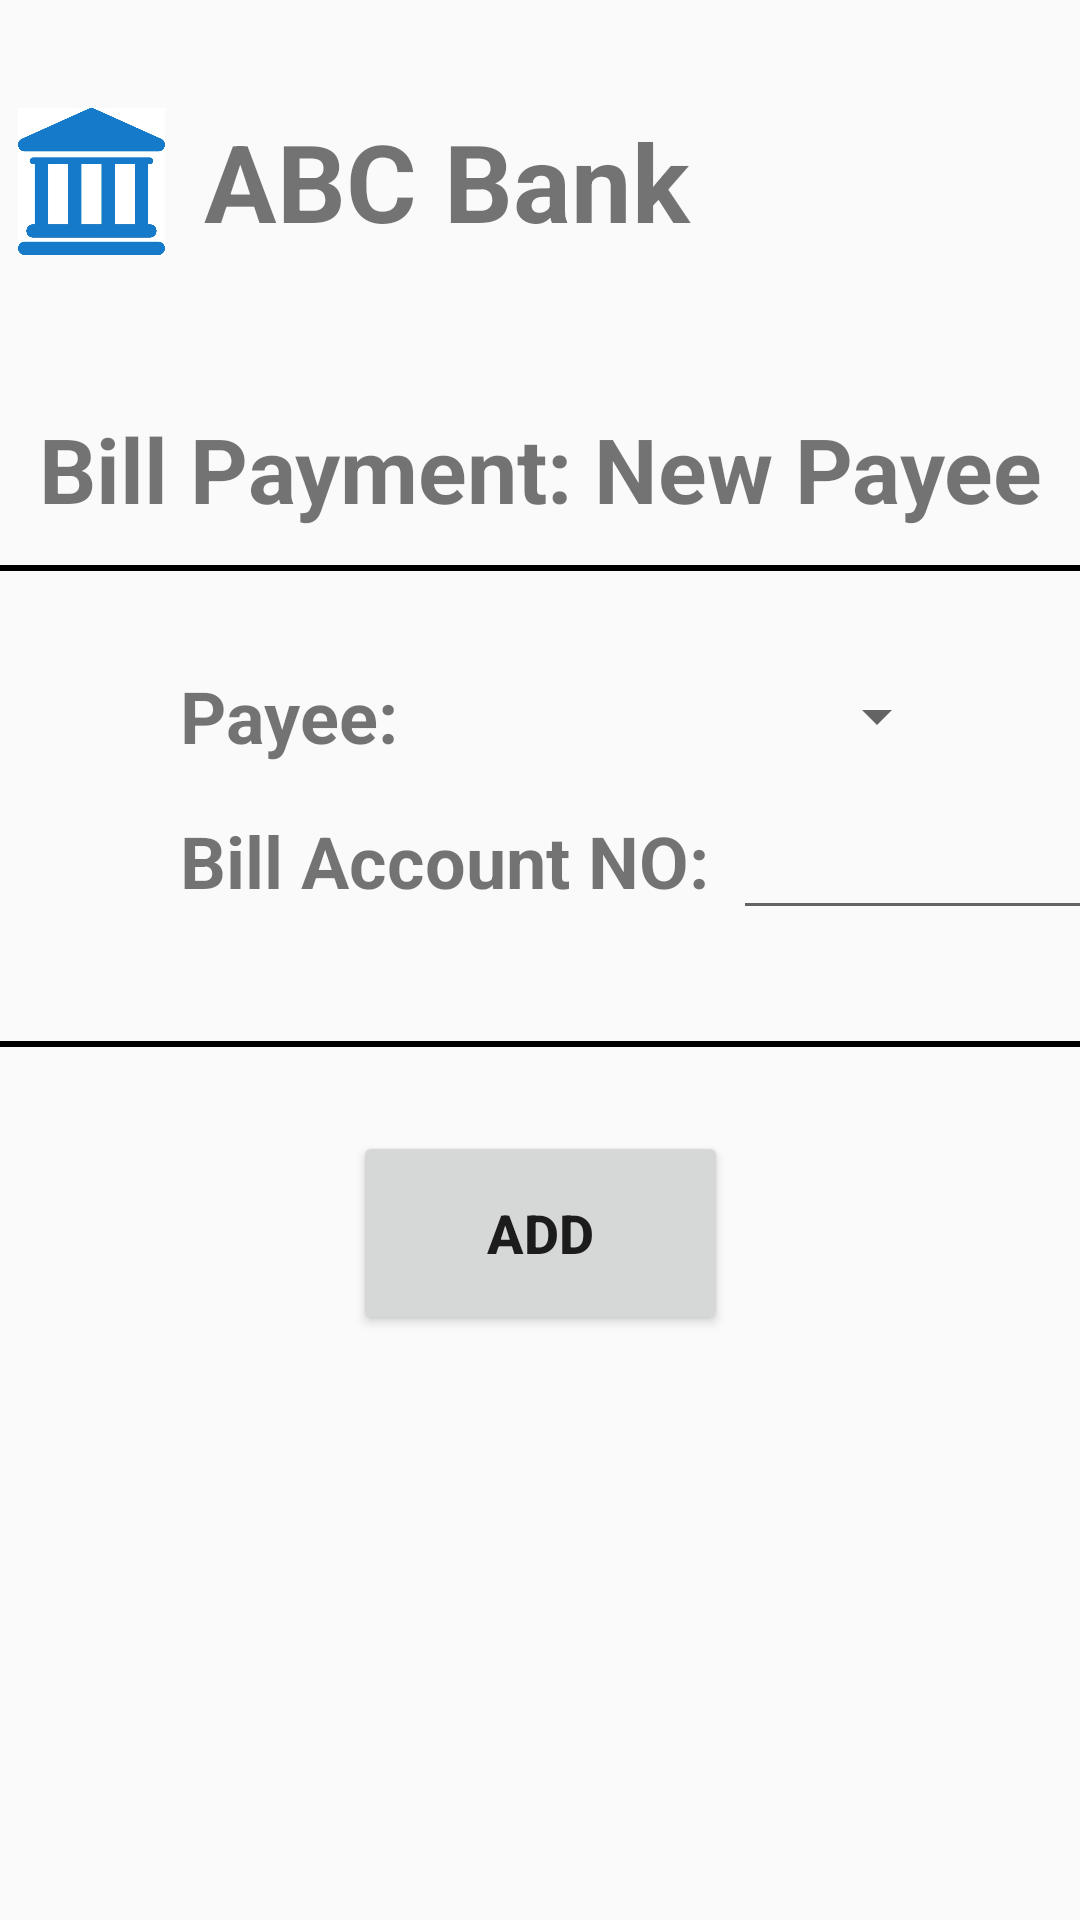

Locate icon controls on the screen. Image size 1080w x 1920h, boxes as rect(x1, y1, x2, y2).
bankicon: rect(18, 108, 165, 255)
